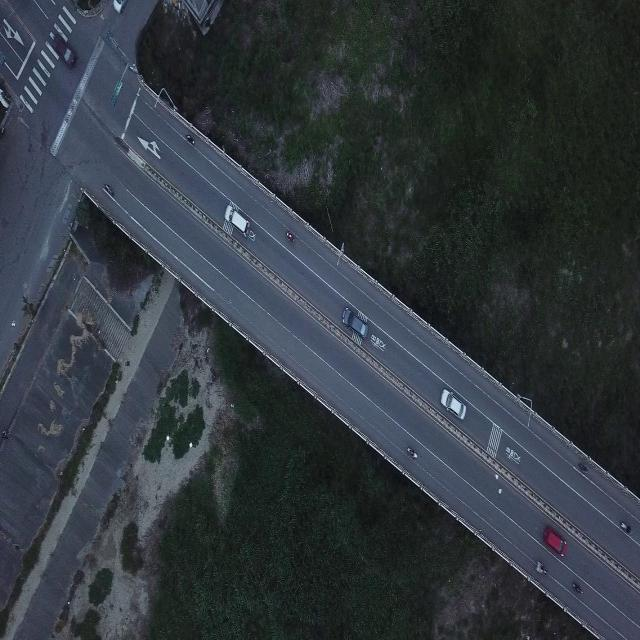bike: (534, 560, 546, 575), (404, 445, 418, 457), (102, 182, 114, 195), (617, 520, 629, 532)
car: (223, 202, 250, 237), (341, 305, 368, 339), (50, 32, 76, 66), (440, 387, 466, 419), (542, 524, 566, 556)
